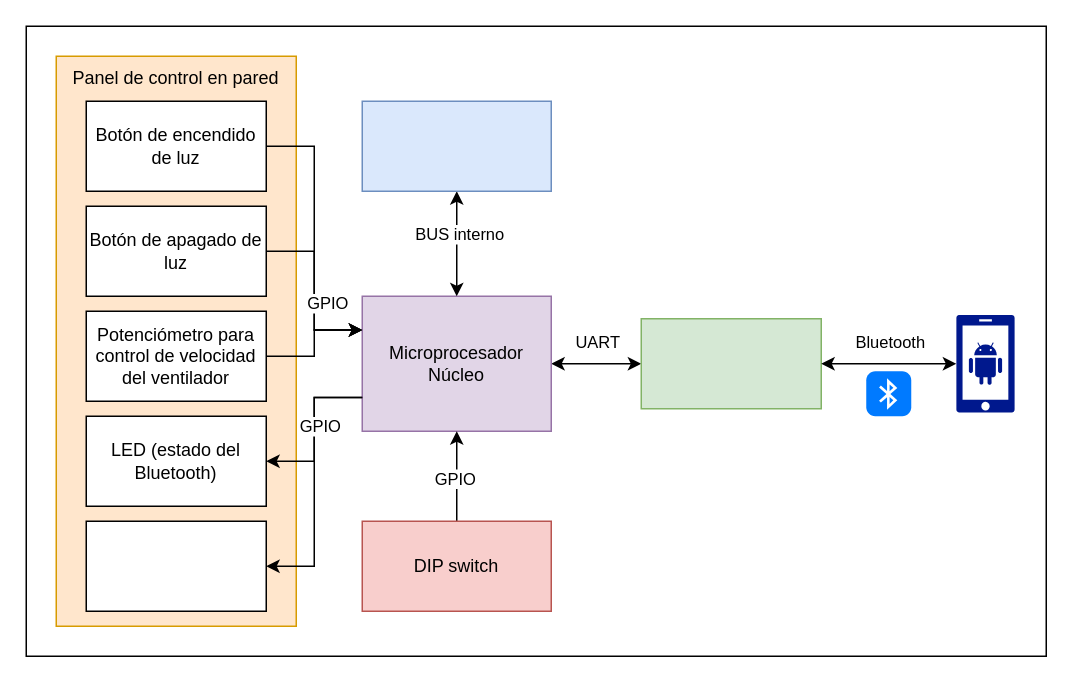
This 1073x683 diagram has some shape labels left out. The shapes that lost their labels are listed below. From the top down, each one's centre as x and y in pixels, then its label:
[456,145]: Memoria Flash (dentro del micro)
[730,363]: Módulo Bluetooth HC-05
[175,565]: Buzzer
